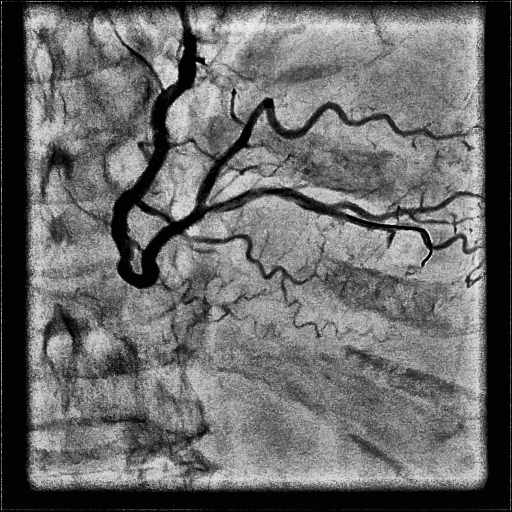pborca: (196, 97, 464, 202)
pda: (208, 187, 470, 254)
rca: (111, 49, 208, 289)
